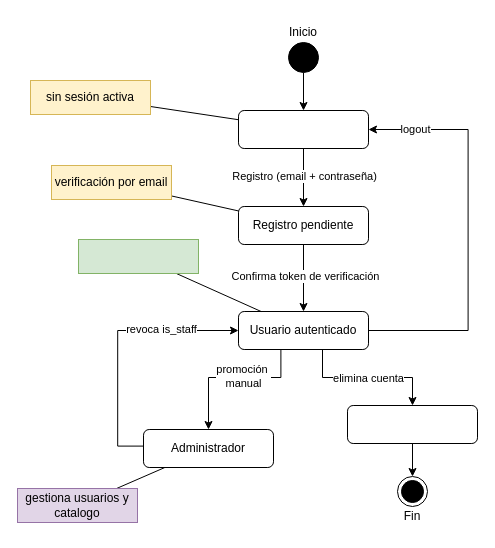
Image size: 495x548. Some labels were removed from this diagram. Here are the shapes that lost their labels. From the top down, the centre of each, then its label:
the point at 303,129: Visitante
the point at 138,256: is_staff = false
the point at 412,424: Cuenta eliminada
